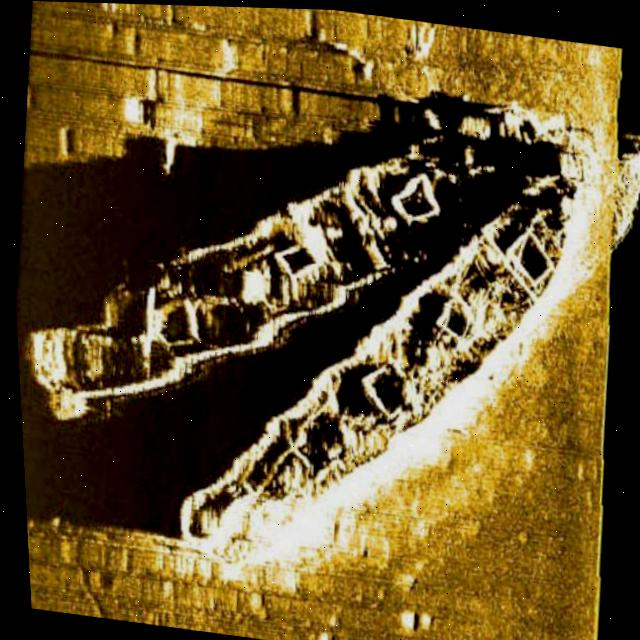shipwreck: (4, 42, 540, 483), (155, 122, 606, 591)
